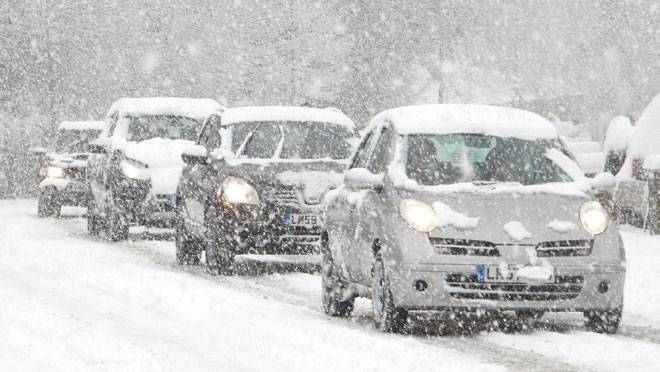car: (321, 111, 627, 334), (174, 103, 344, 282), (87, 96, 190, 244)
